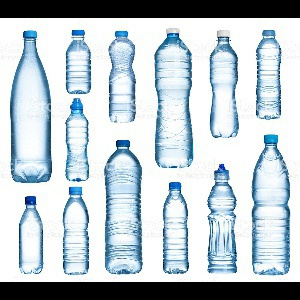emptybottle: (11, 31, 52, 182), (154, 28, 194, 169), (252, 134, 290, 276), (104, 140, 142, 273), (209, 29, 239, 139), (207, 164, 237, 273), (108, 31, 136, 123), (62, 187, 90, 275), (163, 182, 189, 274), (255, 28, 281, 120), (65, 99, 89, 182), (19, 196, 43, 275), (66, 30, 90, 94)
